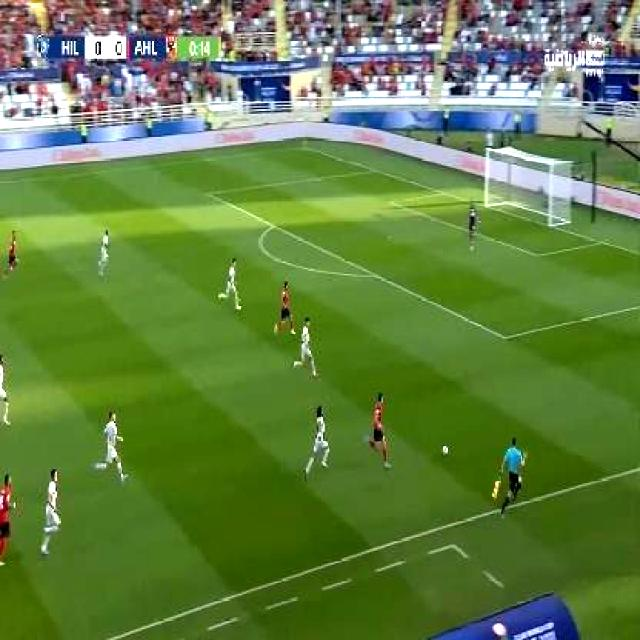bigarea_bottom_inner: (494, 324, 514, 348)
bigarea_top_inner: (200, 183, 217, 202)
bigarea_top_outter: (364, 161, 382, 177)
bottom_arc_area_intersection: (366, 265, 380, 283)
corner: (294, 140, 311, 154)
smallarea_bottom_inner: (528, 245, 544, 263)
smallarea_bottom_outter: (592, 232, 610, 251)
smallarea_top_inner: (380, 192, 402, 210)
smallarea_top_outter: (434, 183, 449, 199)
top_arc_area_intersection: (263, 216, 283, 236)
